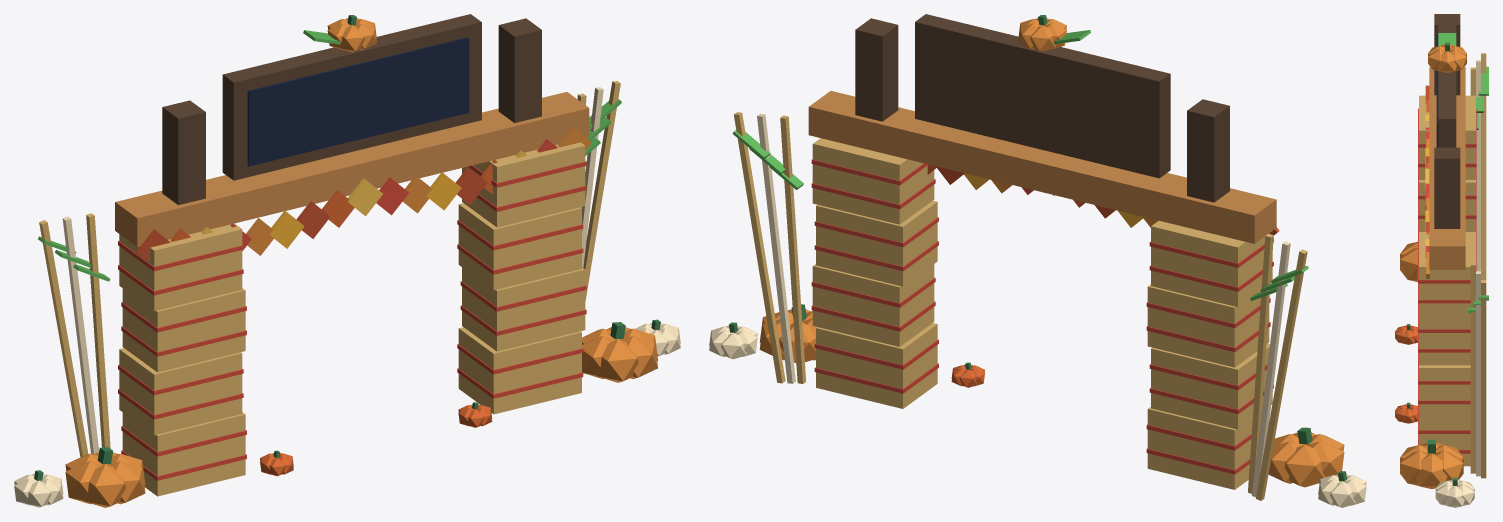
Rendered from CatCafe_Harvest_Arch.glb.
3 renders of one model, left to right at view 1: azimuth 30°, elevation 25°; view 2: azimuth 150°, elevation 25°; view 3: azimuth 270°, elevation 25°, orthographic. The views are drawn at different scales.
Visible parts, largest first — view 1: CatCafe_Harvest_Arch, CatCafe_Harvest_Arch_Screen; view 2: CatCafe_Harvest_Arch; view 3: CatCafe_Harvest_Arch, CatCafe_Harvest_Arch_Screen.
Boxes of the visible parts, x1=… form: CatCafe_Harvest_Arch: x1=14, y1=14, x2=680, y2=507; CatCafe_Harvest_Arch_Screen: x1=247, y1=37, x2=469, y2=166; CatCafe_Harvest_Arch: x1=709, y1=14, x2=1366, y2=507; CatCafe_Harvest_Arch: x1=1395, y1=14, x2=1488, y2=507; CatCafe_Harvest_Arch_Screen: x1=1436, y1=35, x2=1438, y2=147.
Bounding box in the file's own units: 24.05 × 14.43 × 3.62.
Materials: 1 (1 with a texture image).
